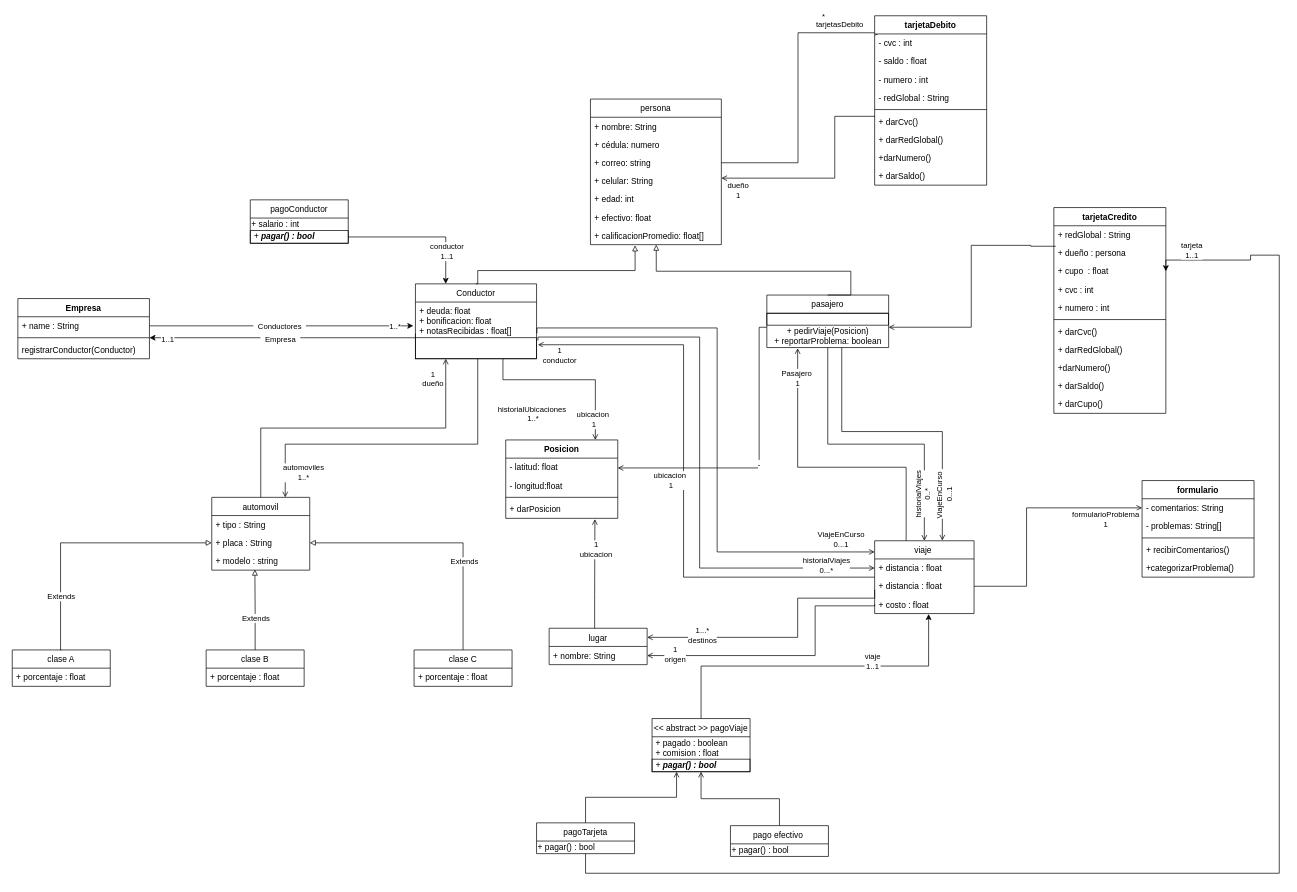
The diagram is 1297 pixels wide and 892 high, and some of its shapes have lost their labels. Each missing label, with the centre of its shape:
+ acceptarViaje(viaje) : void: pixel 476 348
+ notasRecibidas : float[]: pixel 827 319
